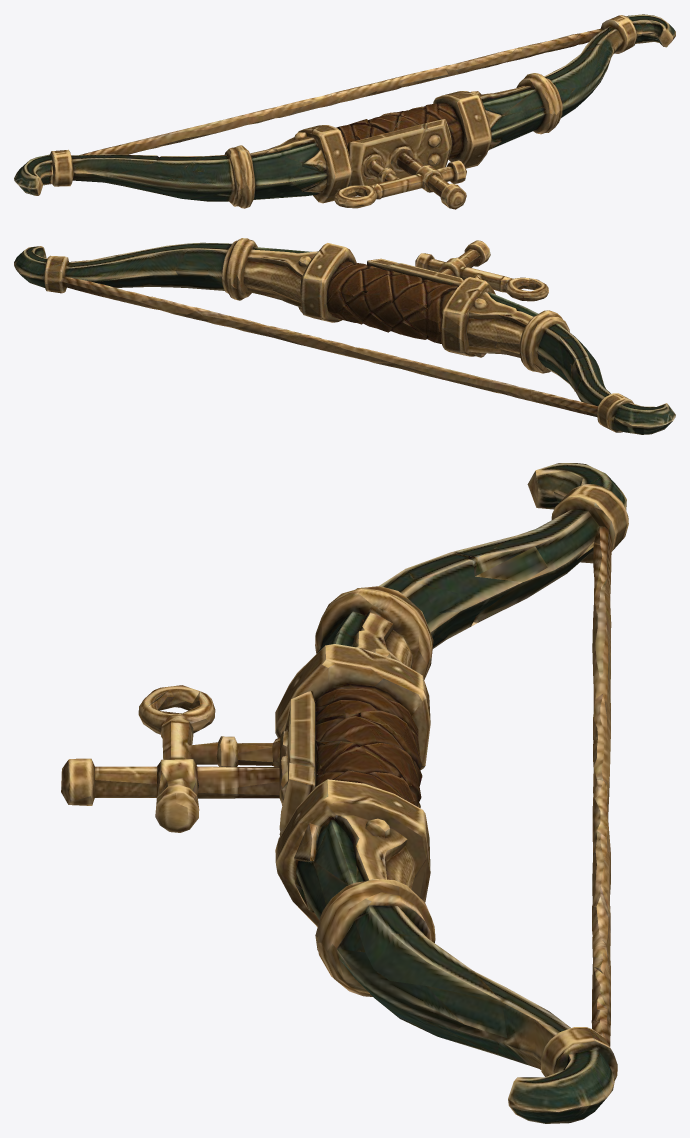
The model's file is longshot_bow.glb.
The picture shows the model from 3 angles, top to bottom: view 1: azimuth 30°, elevation 25°; view 2: azimuth 150°, elevation 25°; view 3: azimuth 270°, elevation 25°; orthographic projection. The views are drawn at different scales.
Size of the model in its own units: 1.91 by 0.1974 by 0.7229.
1 material, 1 textured.
